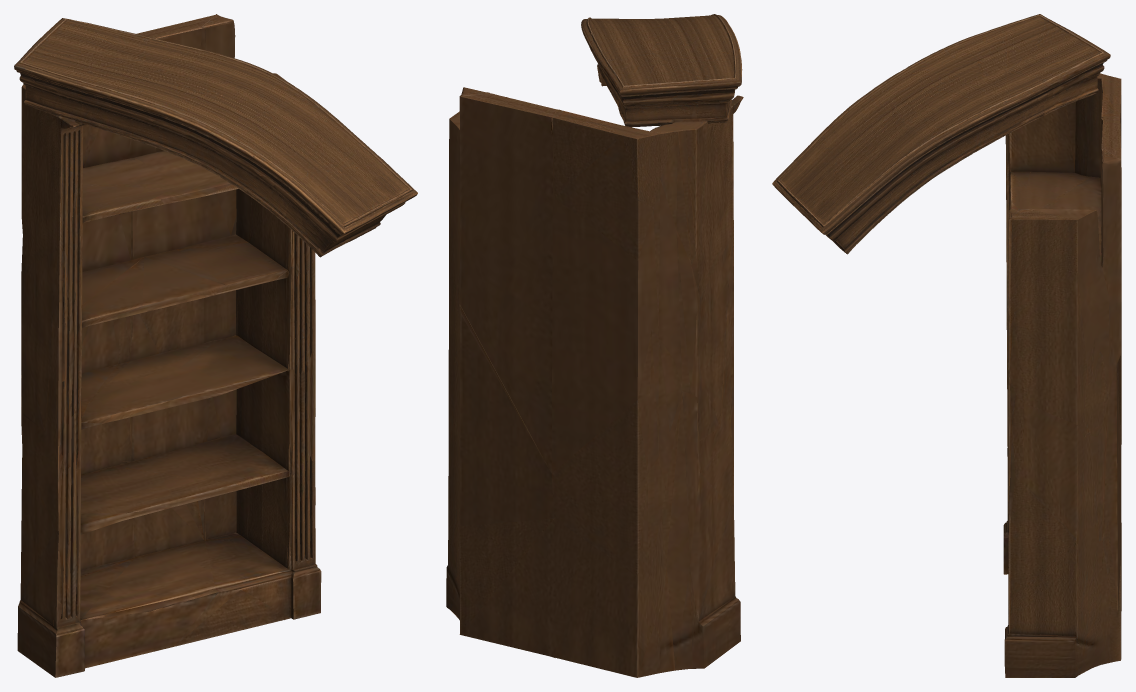
Rendered from bookcase.glb.
3 renders of one model, left to right at view 1: azimuth 30°, elevation 25°; view 2: azimuth 150°, elevation 25°; view 3: azimuth 270°, elevation 25°, orthographic. The views are drawn at different scales.
Parts seen in each view (by area): view 1: Mesh_0; view 2: Mesh_0; view 3: Mesh_0.
Boxes of the visible parts, bbox=[...] form: Mesh_0: bbox=[14, 14, 417, 677]; Mesh_0: bbox=[446, 14, 743, 677]; Mesh_0: bbox=[772, 14, 1121, 677].
Bounding box in the file's own units: 1.59 × 3.2 × 1.87.
1 material, 1 textured.
